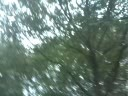window: (11, 19, 100, 96)
